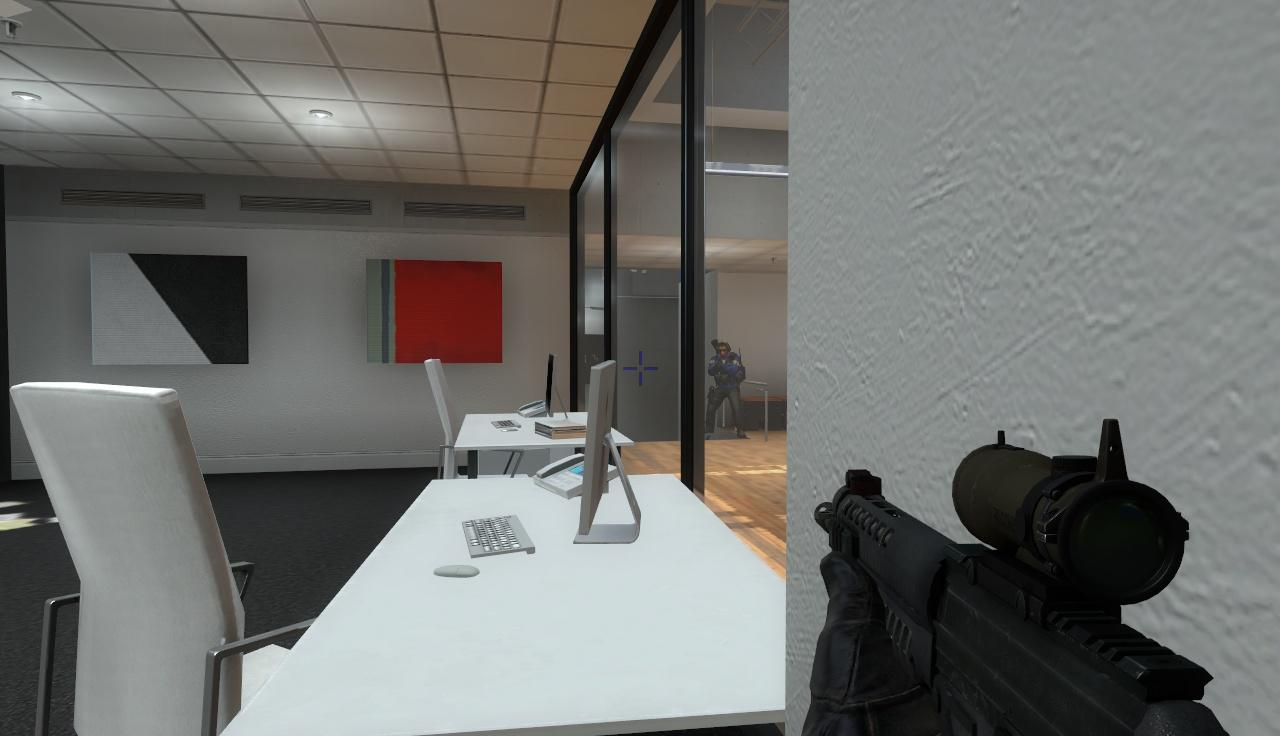ct: (706, 339, 746, 441)
cthead: (716, 340, 731, 357)
rifle: (809, 419, 1280, 736)
